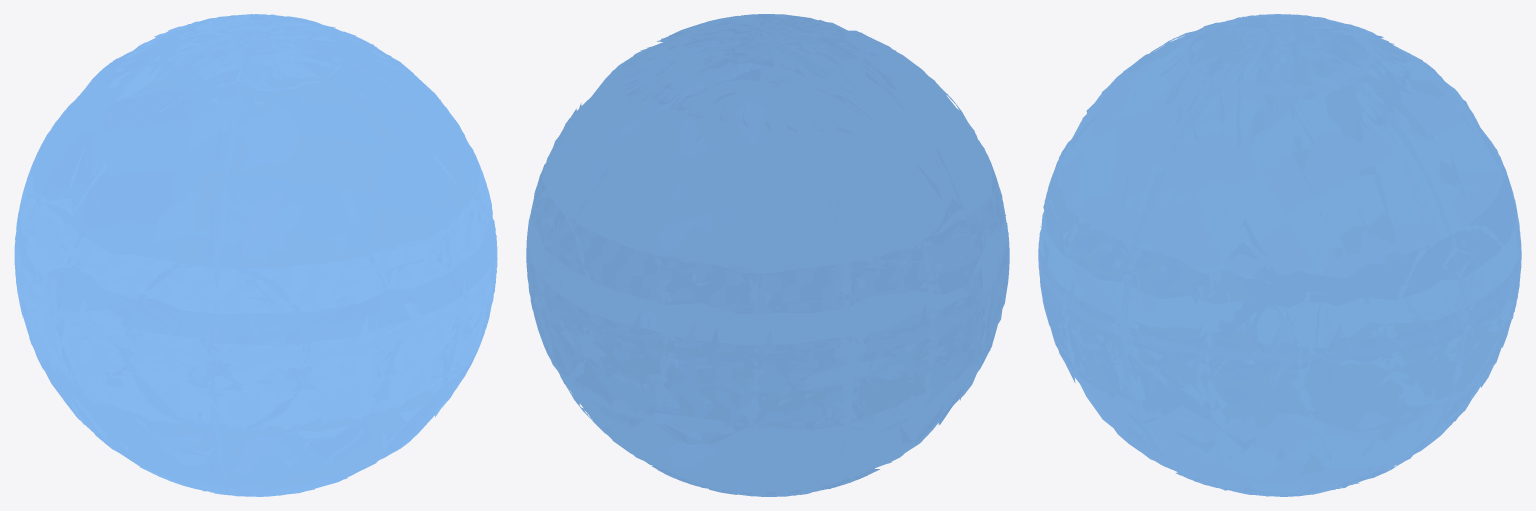
Rendered from tank-C2.glb.
3 renders of one model, left to right at view 1: azimuth 30°, elevation 25°; view 2: azimuth 150°, elevation 25°; view 3: azimuth 270°, elevation 25°, orthographic.
Parts seen in each view (by area): view 1: buoyancy_tanks; view 2: buoyancy_tanks; view 3: buoyancy_tanks.
Boxes of the visible parts, x1,y1,x2,y2 form: buoyancy_tanks: (14, 14, 497, 496); buoyancy_tanks: (526, 14, 1009, 496); buoyancy_tanks: (1038, 14, 1521, 496).
Size of the model in its own units: 2 by 2 by 2.
